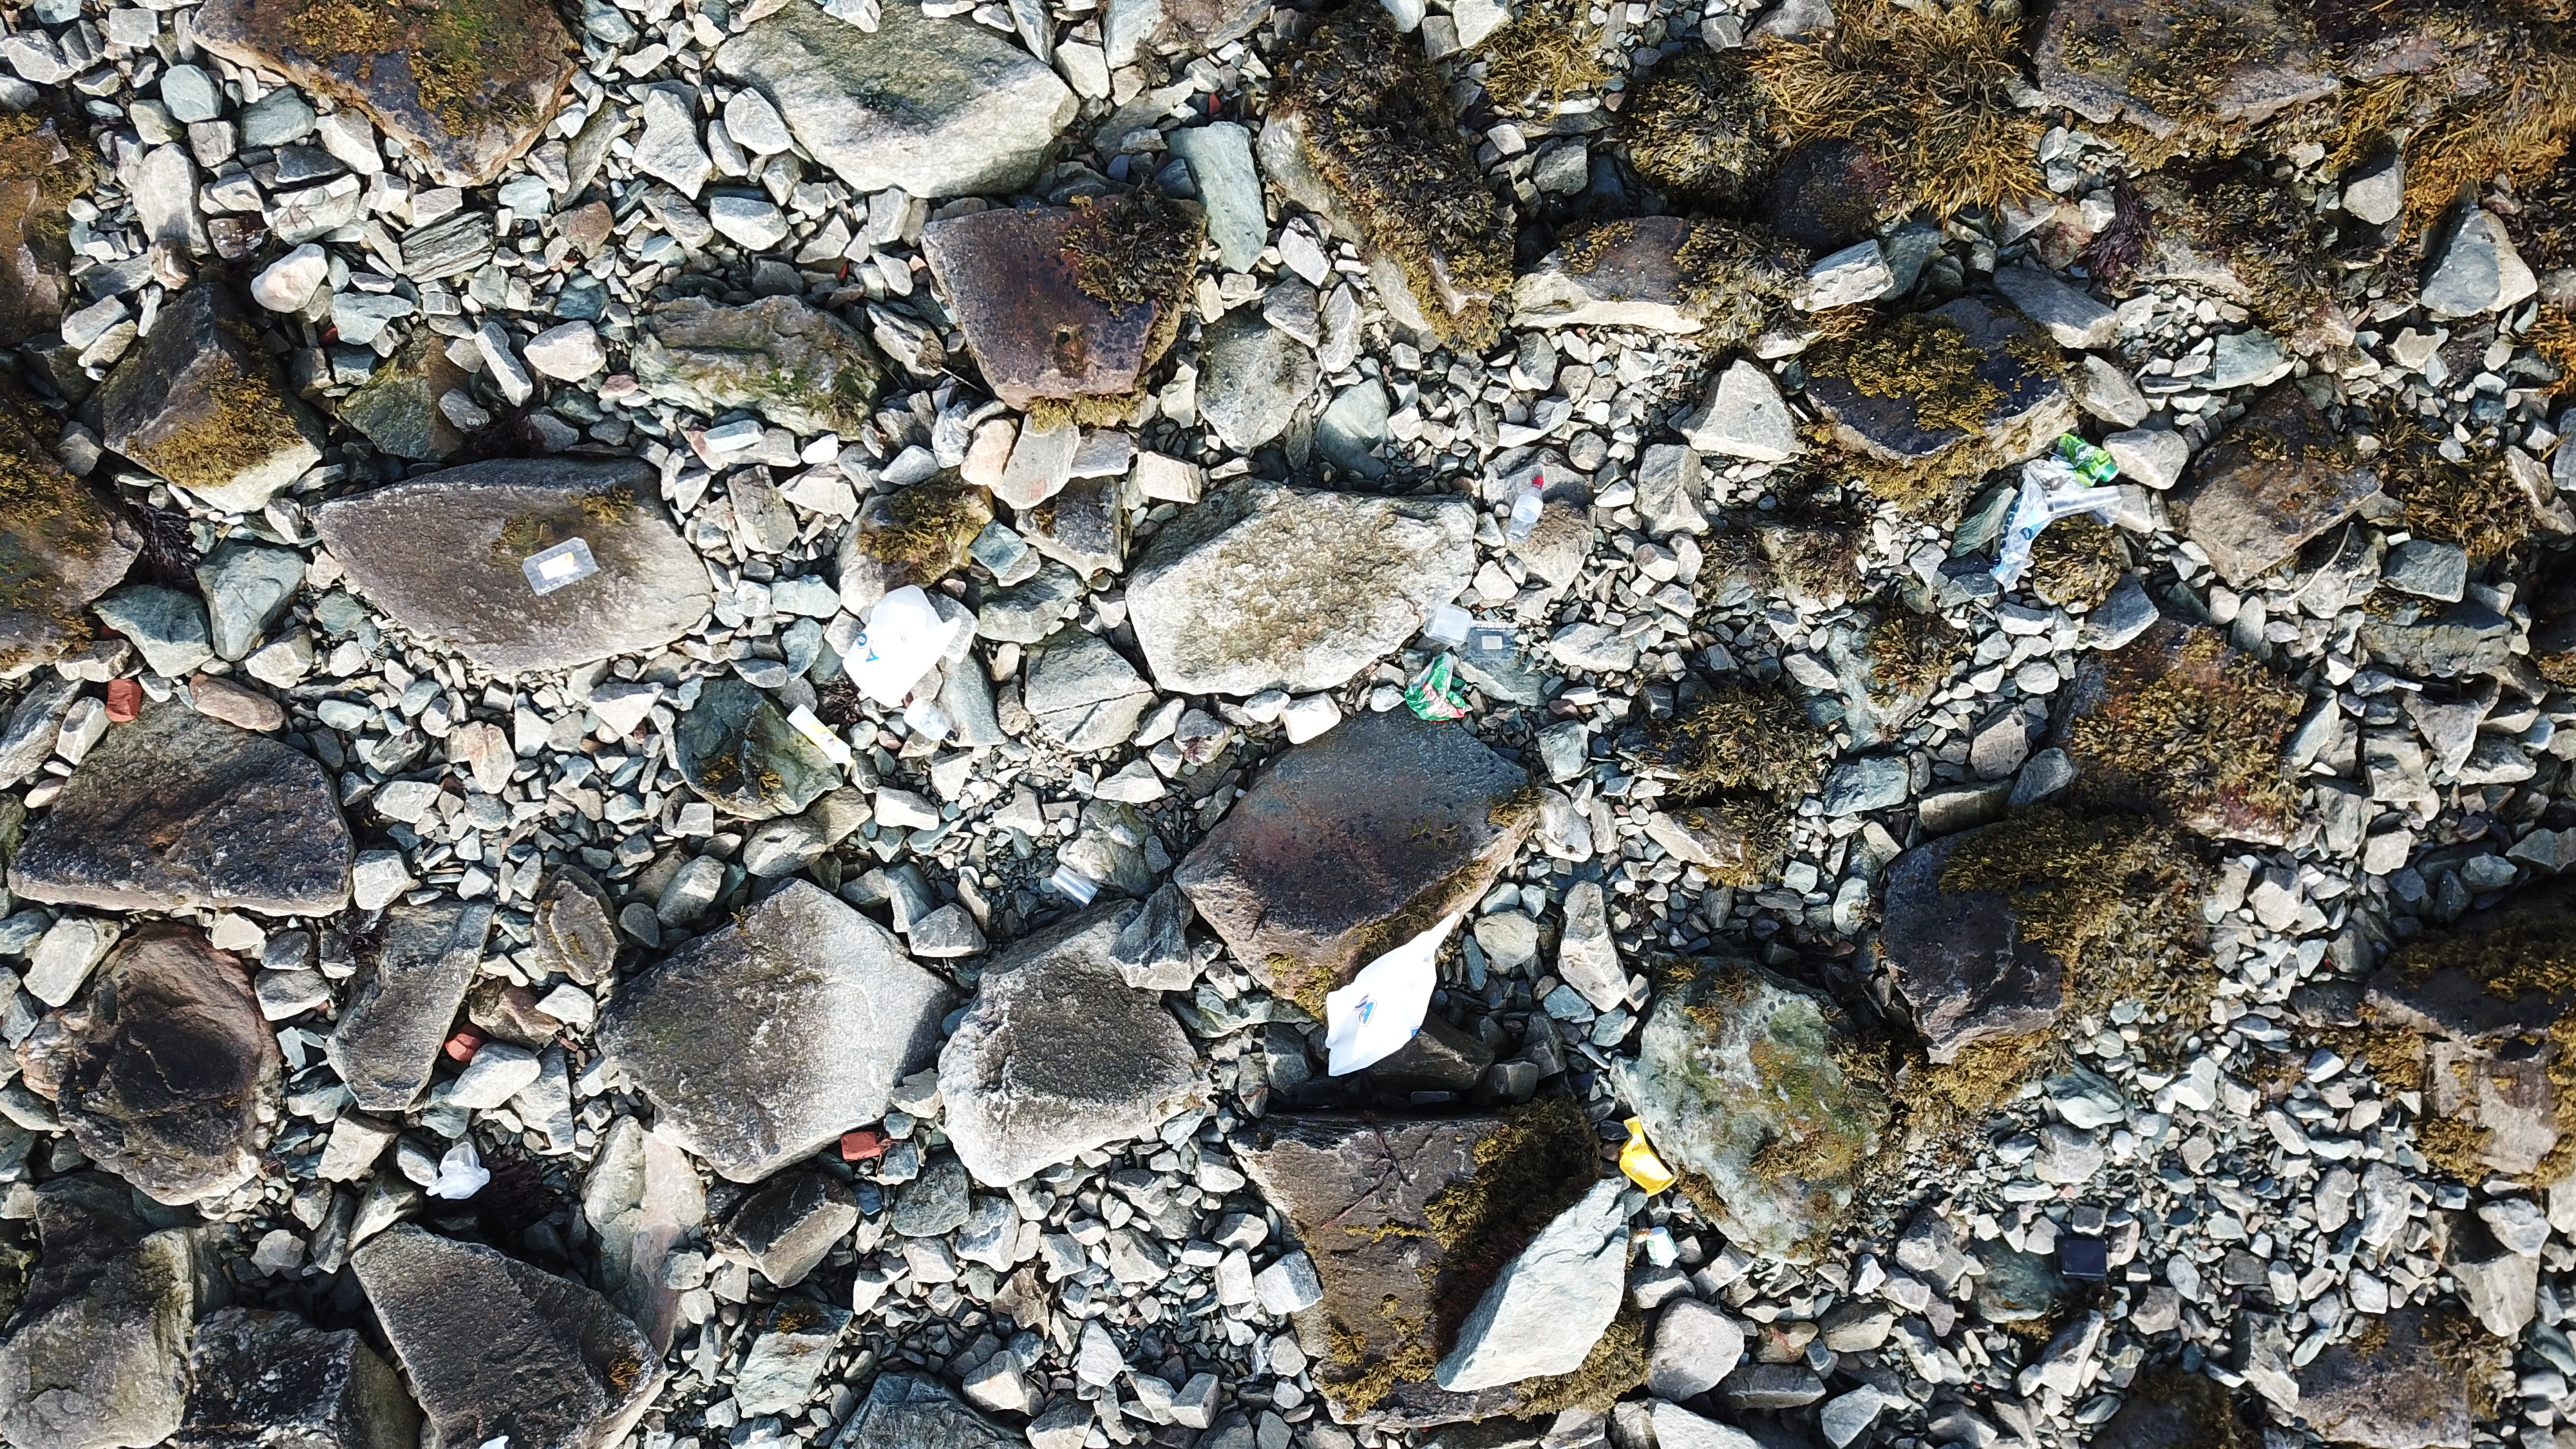Can: (2095, 456, 2120, 487)
Plastic: (1323, 913, 1461, 1079), (842, 584, 959, 699), (1987, 469, 2047, 593), (787, 704, 860, 771), (522, 534, 600, 596), (1619, 1122, 1677, 1198), (1405, 653, 1468, 722), (426, 1145, 492, 1198), (2049, 433, 2109, 481), (902, 699, 961, 745), (2024, 455, 2093, 492), (2042, 488, 2127, 517), (1468, 621, 1522, 665), (1424, 602, 1474, 644), (1051, 867, 1100, 904)
PlasticBottle: (1507, 476, 1546, 543)
